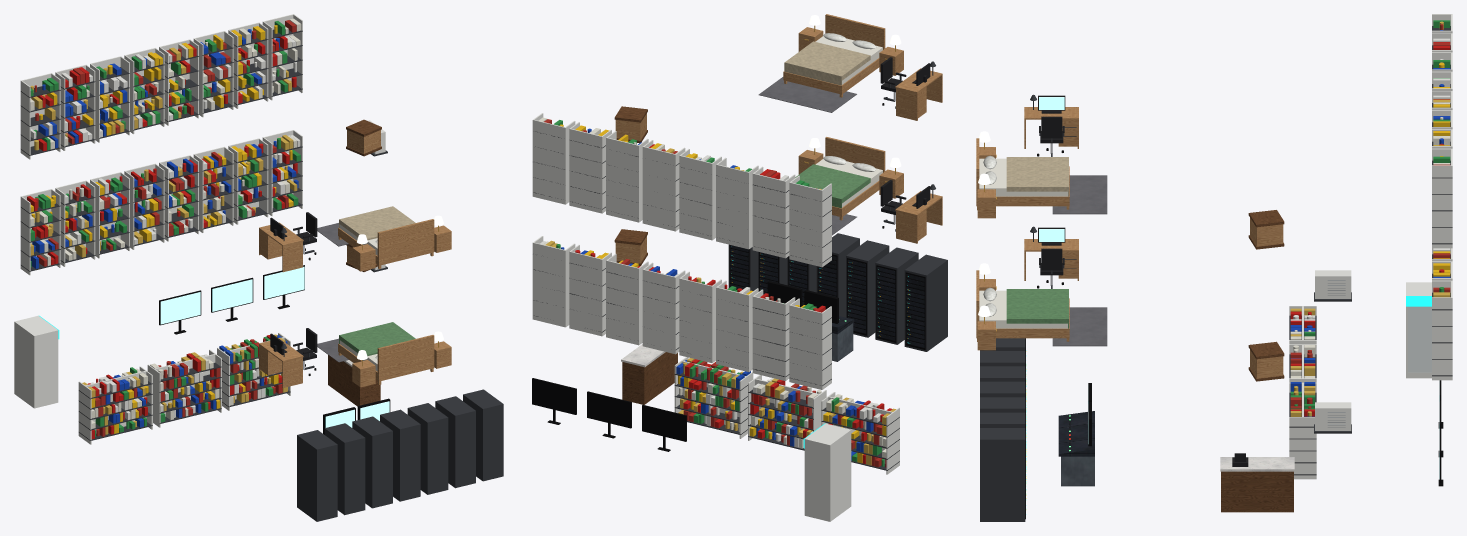
Rendered from i_electronics_shop.gltf.
3 renders of one model, left to right at view 1: azimuth 30°, elevation 25°; view 2: azimuth 150°, elevation 25°; view 3: azimuth 270°, elevation 25°, orthographic. The views are drawn at different scales.
Visible parts, largest first — view 1: I_electronics_shop; view 2: I_electronics_shop; view 3: I_electronics_shop.
Boxes of the visible parts, left/top/right/bottom form: I_electronics_shop: left=14, top=14, right=503, bottom=521; I_electronics_shop: left=532, top=14, right=947, bottom=521; I_electronics_shop: left=976, top=14, right=1452, bottom=521.
Size of the model in its own units: 9.06 by 8.6 by 10.46.
Materials: 35 (10 with a texture image).
